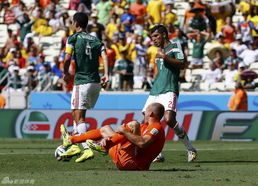fall: (49, 98, 174, 170)
